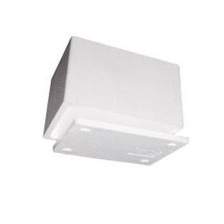foam_box: (37, 32, 195, 171)
